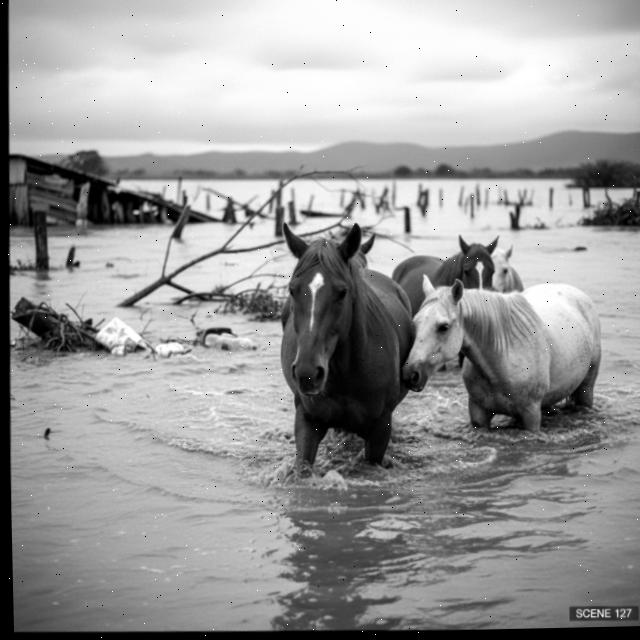horse: (241, 223, 415, 480), (395, 266, 612, 438), (390, 233, 498, 304), (484, 238, 531, 299)
